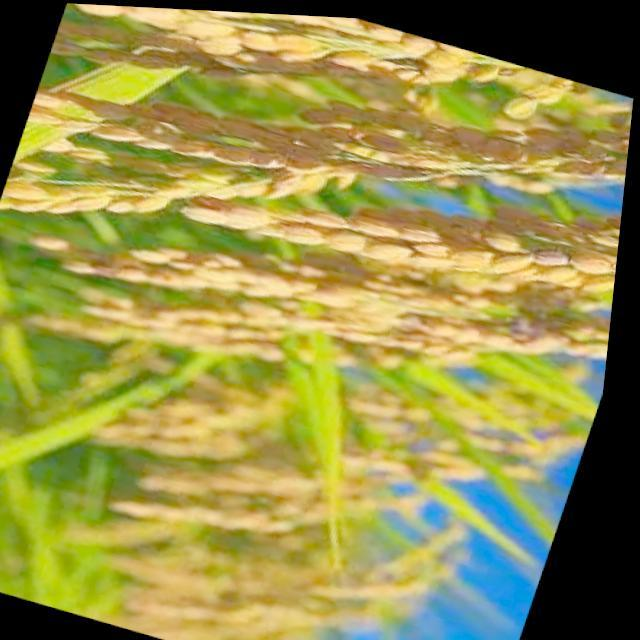Padi: (52, 4, 612, 208), (22, 220, 598, 416)
